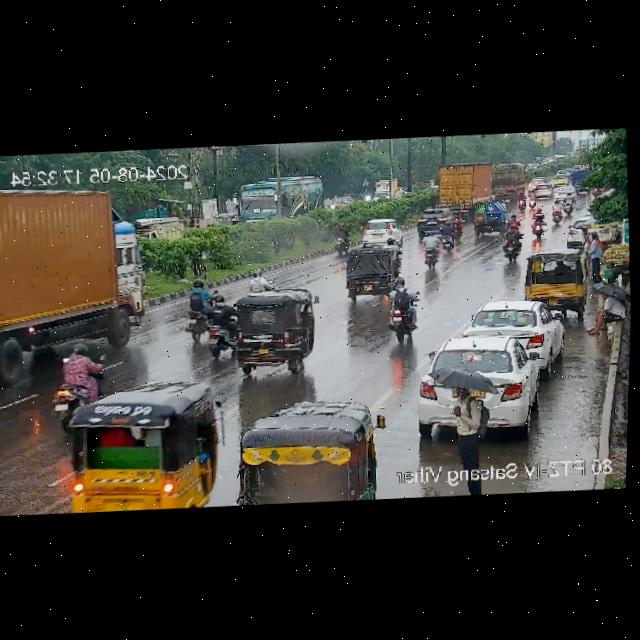bus: (233, 173, 324, 226)
car: (57, 382, 224, 515), (235, 399, 389, 507), (417, 334, 554, 440), (227, 293, 316, 375), (459, 298, 564, 361), (520, 250, 587, 311), (341, 245, 406, 300), (469, 197, 513, 235), (412, 208, 459, 234), (355, 217, 398, 243), (216, 211, 236, 226), (537, 183, 555, 198), (554, 172, 569, 186), (527, 178, 538, 191)
motorcycle: (48, 343, 107, 408), (182, 276, 233, 350), (382, 281, 423, 345), (502, 217, 524, 264), (419, 234, 445, 271), (328, 224, 355, 256), (435, 222, 461, 252), (244, 269, 272, 293), (530, 208, 547, 240), (516, 189, 537, 210), (551, 200, 563, 225), (562, 192, 574, 216)
person: (448, 378, 484, 465), (587, 282, 626, 334), (583, 232, 606, 281)
truck: (0, 181, 144, 373), (423, 163, 490, 211), (488, 159, 527, 198), (138, 216, 182, 239), (375, 178, 398, 201)
